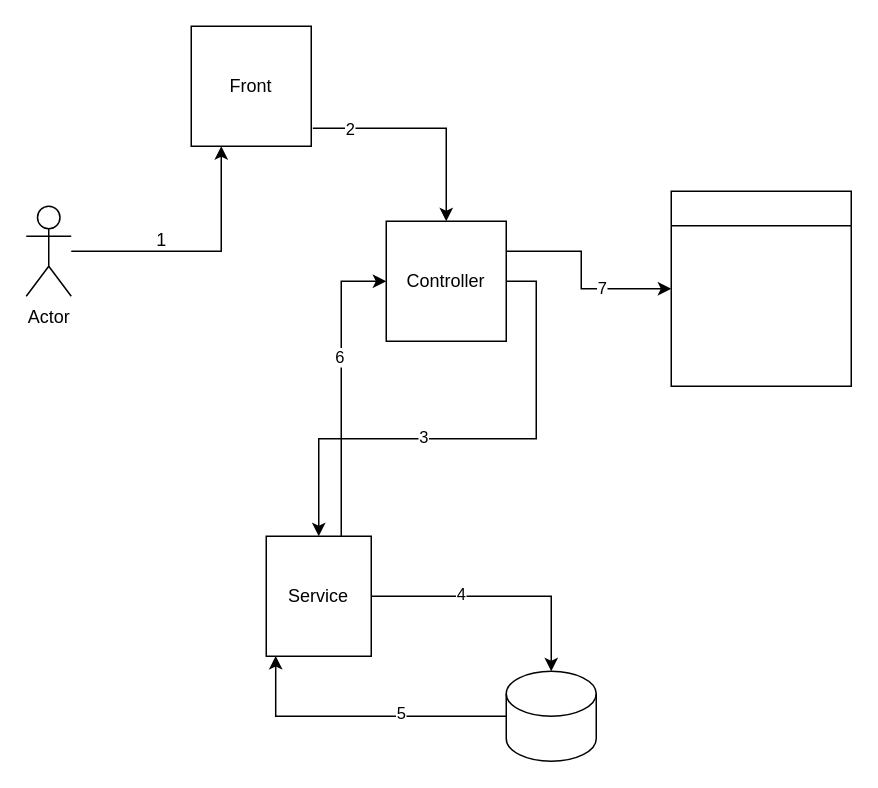
This 878x788 diagram has some shape labels left out. Here are the shapes that lost their labels. From the top down, the box of each, then its label:
(670, 190, 851, 386): SOCIAPP
(505, 670, 596, 761): BD
